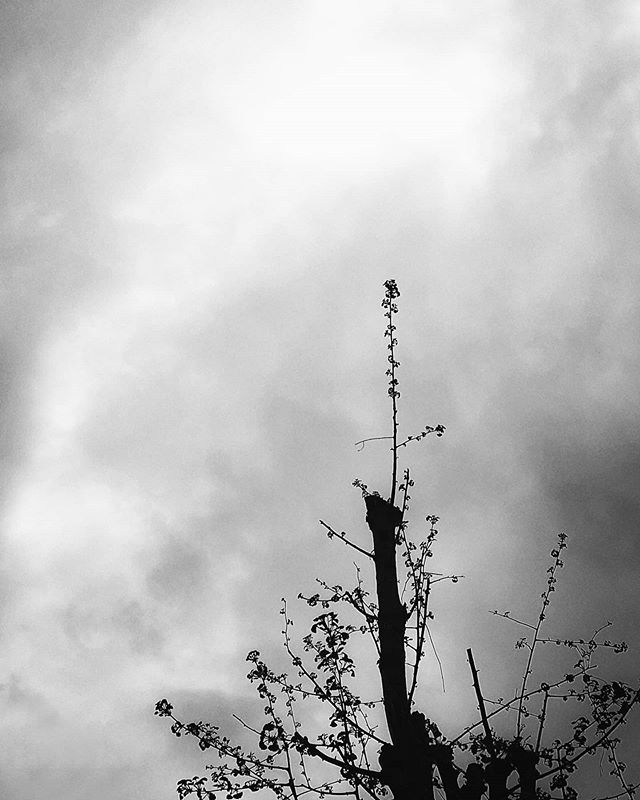sky: (1, 1, 633, 632)
tree: (183, 383, 640, 793)
